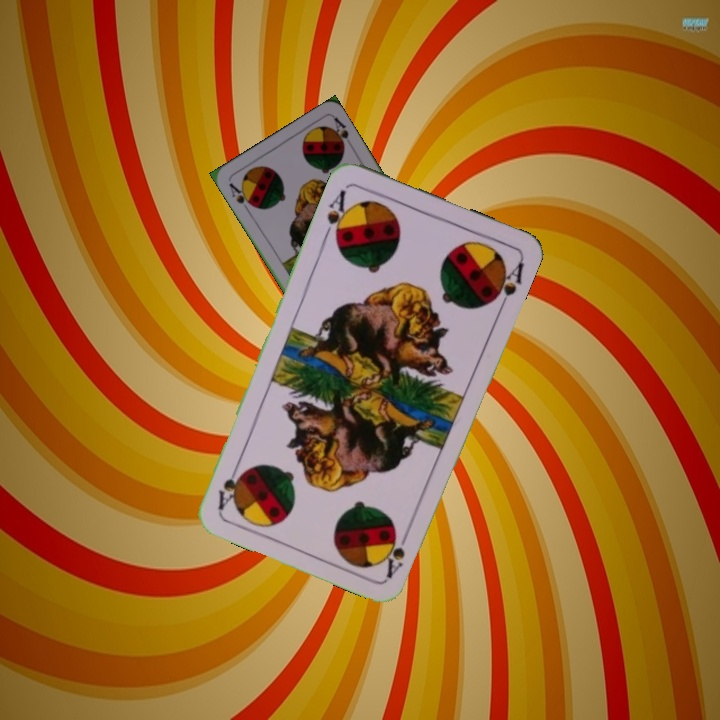SA: (320, 186, 354, 244), (379, 523, 413, 580), (225, 179, 257, 214)
